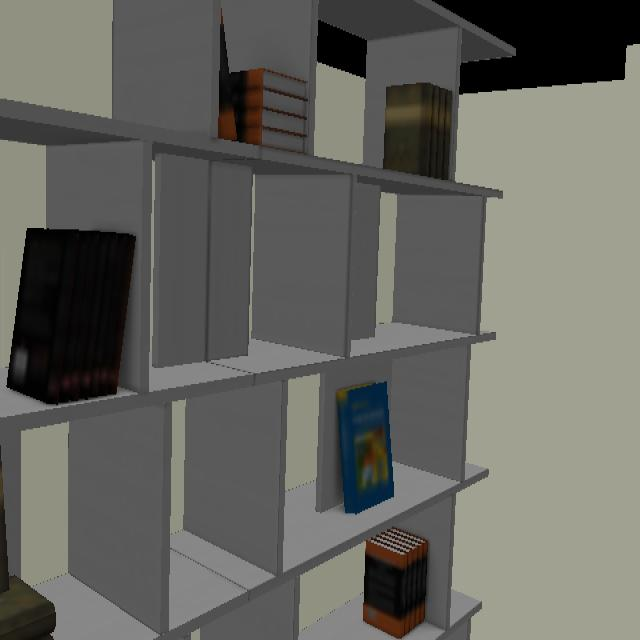book: (8, 229, 135, 405), (221, 24, 310, 153), (0, 464, 56, 640), (334, 383, 396, 515), (362, 528, 432, 640), (382, 81, 458, 180)
shelf: (0, 0, 491, 625), (170, 383, 488, 640), (221, 0, 516, 167)
